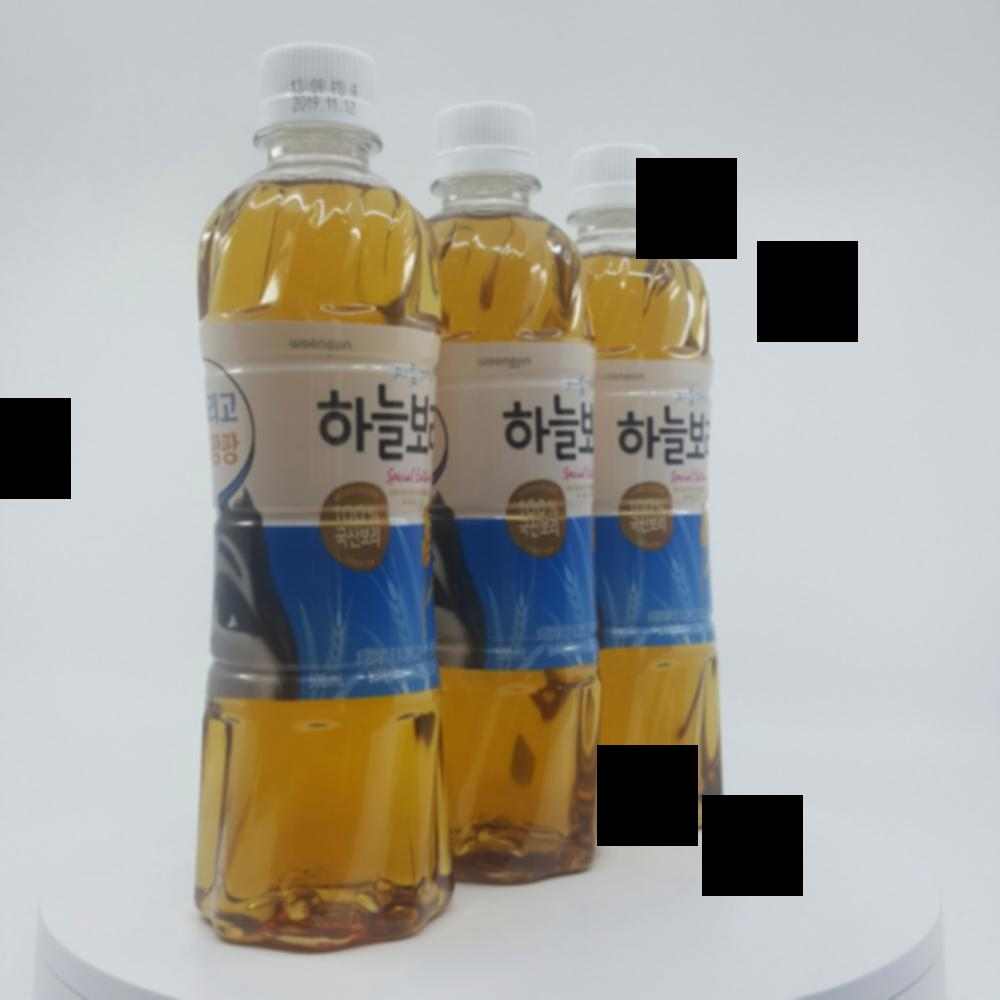haneulbori: (208, 45, 436, 951), (421, 95, 605, 878), (573, 138, 735, 843)
